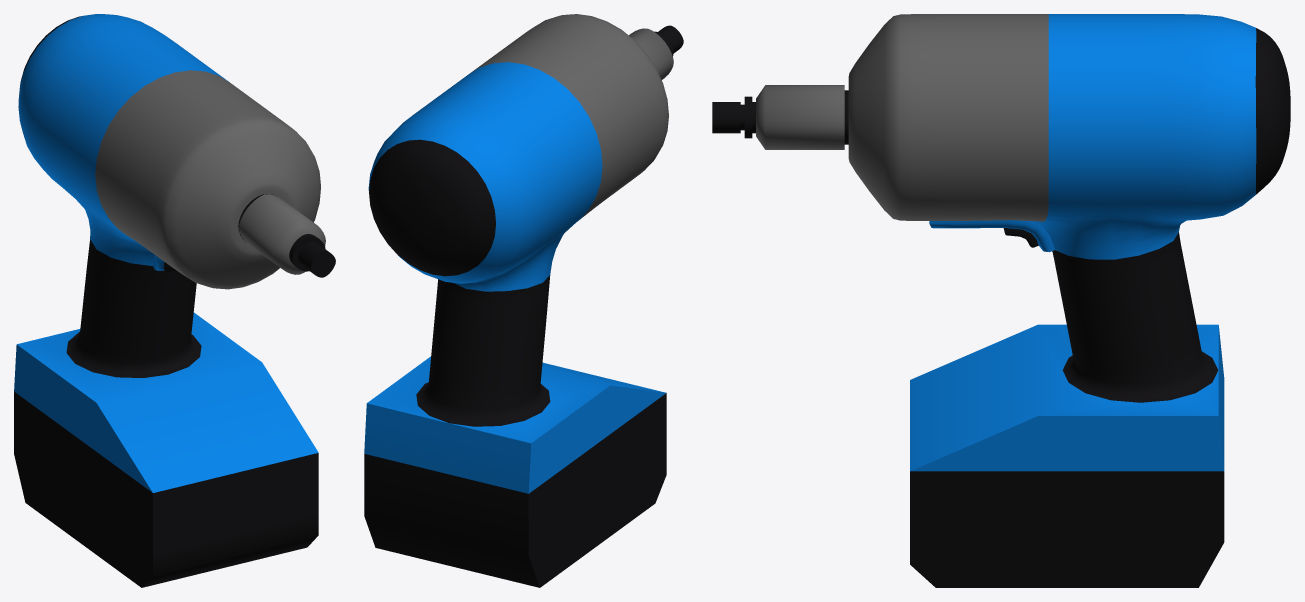
The model's file is Pistola.fbx.
The picture shows the model from 3 angles, left to right: view 1: azimuth 30°, elevation 25°; view 2: azimuth 150°, elevation 25°; view 3: azimuth 270°, elevation 25°; orthographic projection. The views are drawn at different scales.
Visible parts, largest first — view 1: Pistola; view 2: Pistola; view 3: Pistola.
Part boxes in pixels (left/top/right/bottom): Pistola: left=14, top=14, right=335, bottom=587; Pistola: left=364, top=14, right=683, bottom=587; Pistola: left=712, top=14, right=1290, bottom=587.
Bounding box in the file's own units: 183 × 485 × 490.
